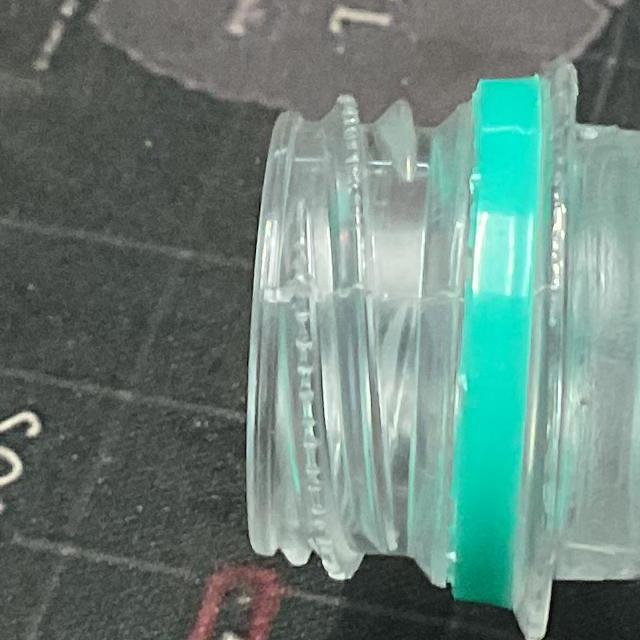open-cap: (236, 59, 549, 610)
